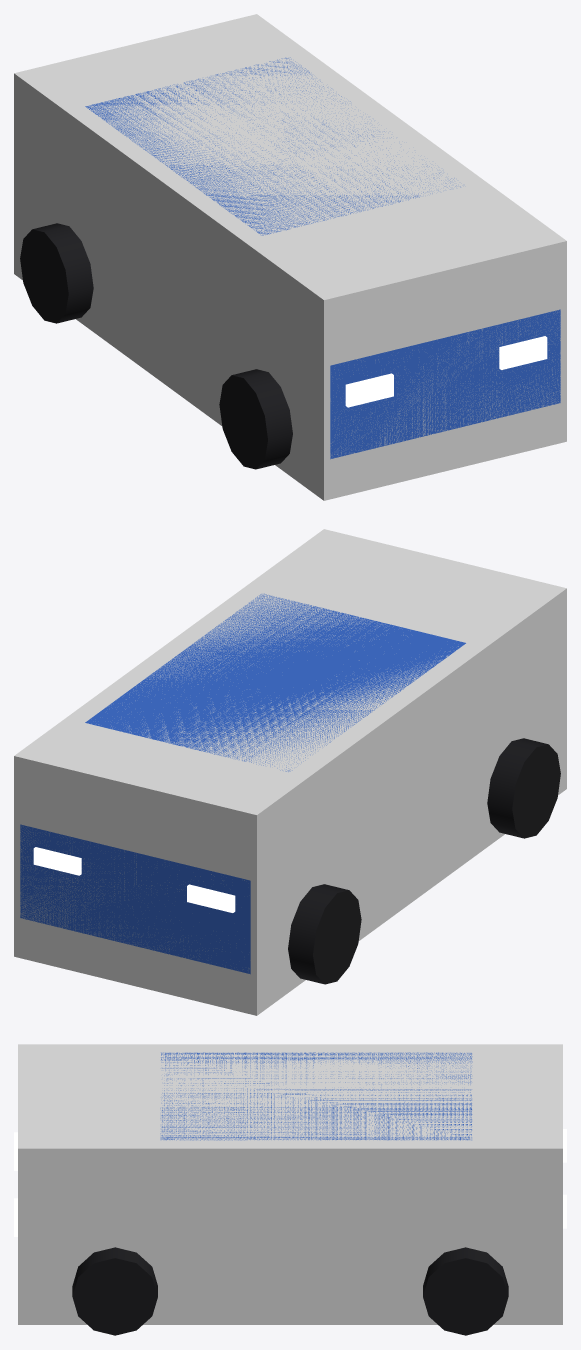
Rendered from coche.glb.
3 renders of one model, top to bottom at view 1: azimuth 30°, elevation 25°; view 2: azimuth 150°, elevation 25°; view 3: azimuth 270°, elevation 25°, orthographic. The views are drawn at different scales.
Visible parts, largest first — view 1: COL_0, coche_Malla; view 2: COL_0, coche_Malla; view 3: COL_0, coche_Malla.
Boxes of the visible parts, x1,y1,x2,y2 form: COL_0: [14, 14, 566, 500]; coche_Malla: [20, 57, 560, 469]; COL_0: [14, 529, 566, 1015]; coche_Malla: [20, 593, 560, 984]; COL_0: [18, 1044, 562, 1324]; coche_Malla: [14, 1052, 566, 1335].
Bounding box in the file's own units: 2.29 × 1.5 × 4.26.
